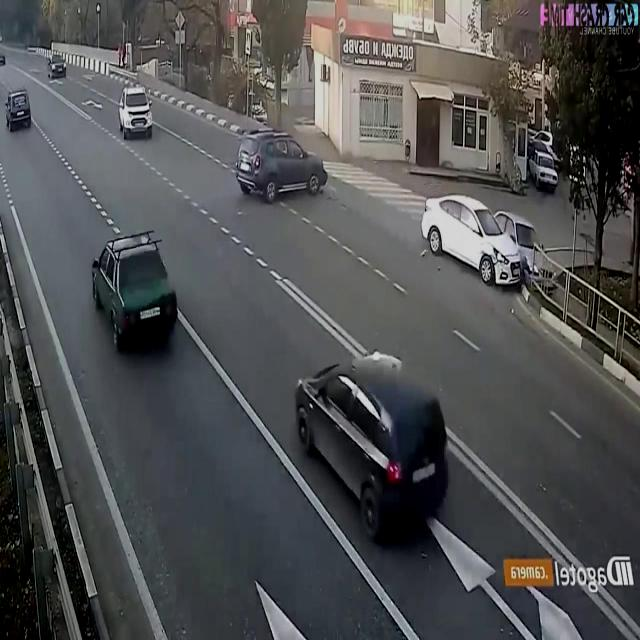accident: (422, 193, 544, 287)
